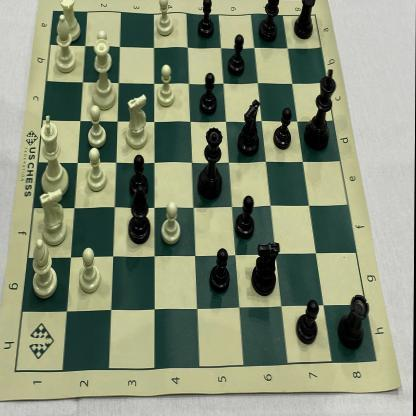black-bishop: (128, 184, 153, 245), (258, 0, 281, 43)
black-king: (304, 67, 338, 151)
black-knight: (252, 240, 281, 298), (238, 99, 262, 157)
black-pawn: (293, 299, 321, 347), (207, 247, 232, 296), (234, 193, 256, 242), (272, 107, 294, 151), (198, 71, 219, 116), (130, 153, 150, 200), (227, 33, 246, 76), (198, 0, 215, 40)
black-queen: (197, 124, 225, 200)
black-rook: (336, 292, 371, 352), (292, 0, 317, 41)
white-bishop: (30, 238, 59, 299), (53, 13, 77, 75)
white-king: (38, 114, 69, 199)
white-knight: (37, 189, 68, 247), (124, 94, 150, 151)
white-pawn: (77, 246, 103, 296), (85, 147, 108, 193), (85, 103, 108, 147), (161, 199, 182, 246), (157, 63, 176, 109), (155, 0, 176, 39), (94, 30, 113, 70)
white-queen: (87, 39, 119, 111)
white-rook: (58, 0, 81, 43)
